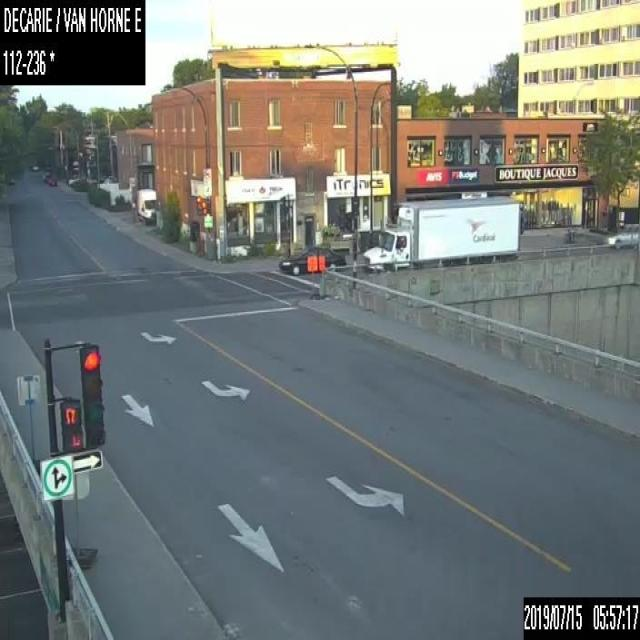construction: (62, 470, 96, 570), (14, 373, 42, 476), (306, 252, 316, 299), (318, 254, 327, 299)
vehicle: (363, 199, 518, 273), (278, 243, 345, 273), (603, 224, 639, 247), (136, 187, 156, 224), (43, 171, 49, 181), (49, 177, 56, 185), (6, 177, 14, 184), (32, 164, 38, 170)
